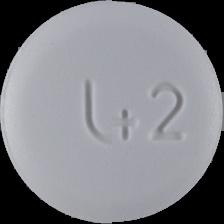50090-1527: (0, 0, 224, 224)
